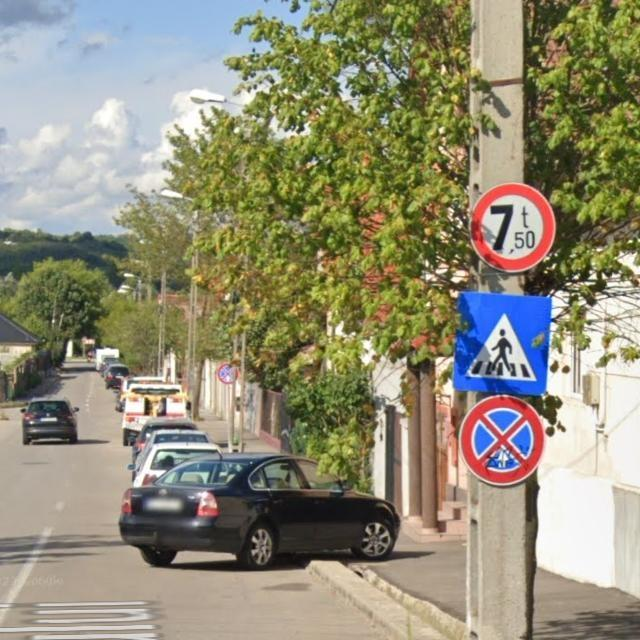forb_waiting: (459, 394, 545, 486), (218, 364, 239, 385)
info_crosswalk: (453, 291, 552, 394)
